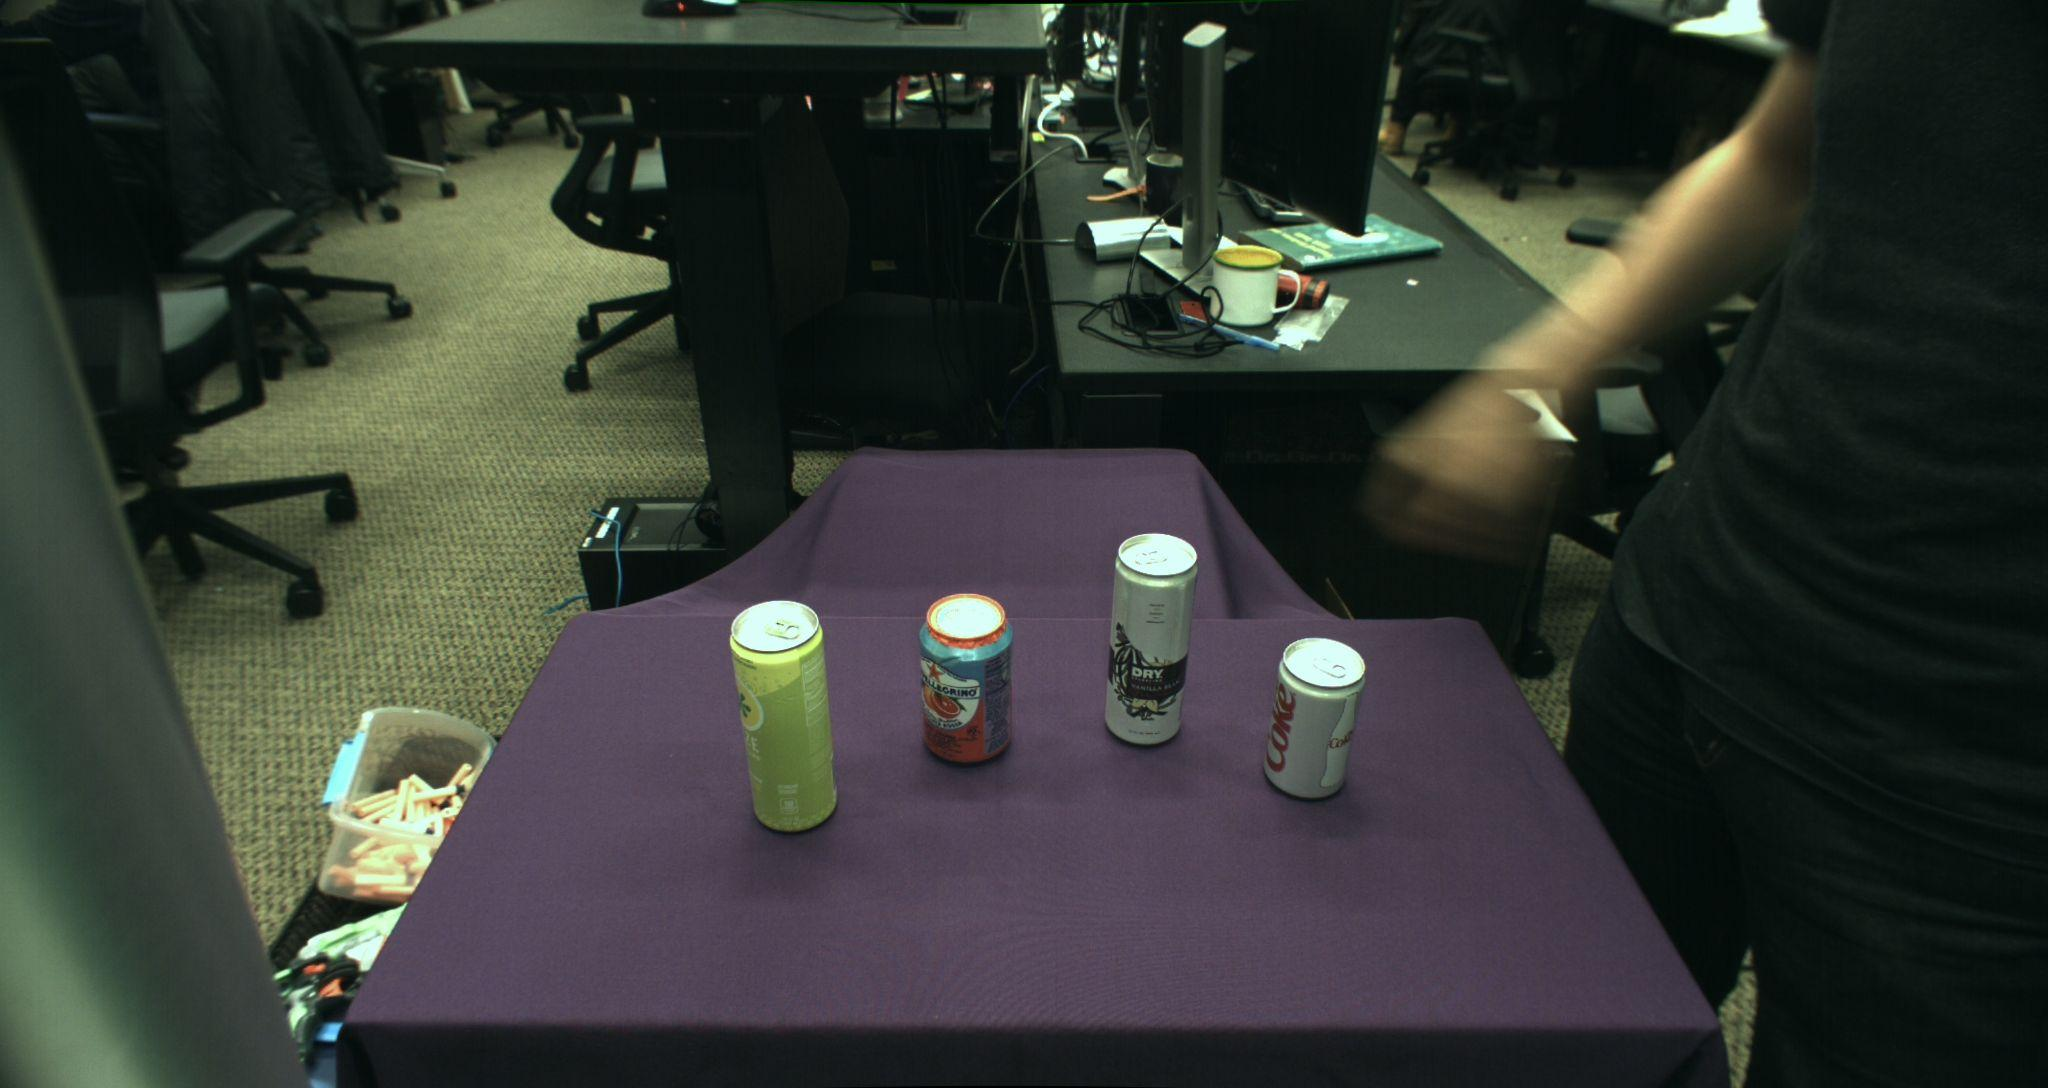can_diet_coke_small: (1264, 635, 1365, 799)
can_dry_sparkling_vanilla_bean: (1105, 532, 1197, 747)
can_izze_fusions_lemon_lime: (730, 599, 838, 833)
can_sanpellegrino_blood_orange: (917, 593, 1013, 764)
